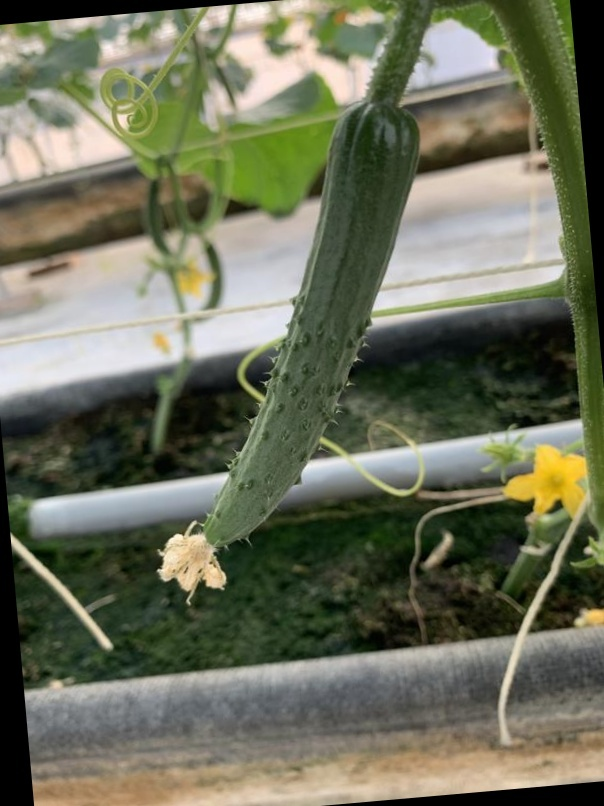growth: (133, 62, 466, 604)
